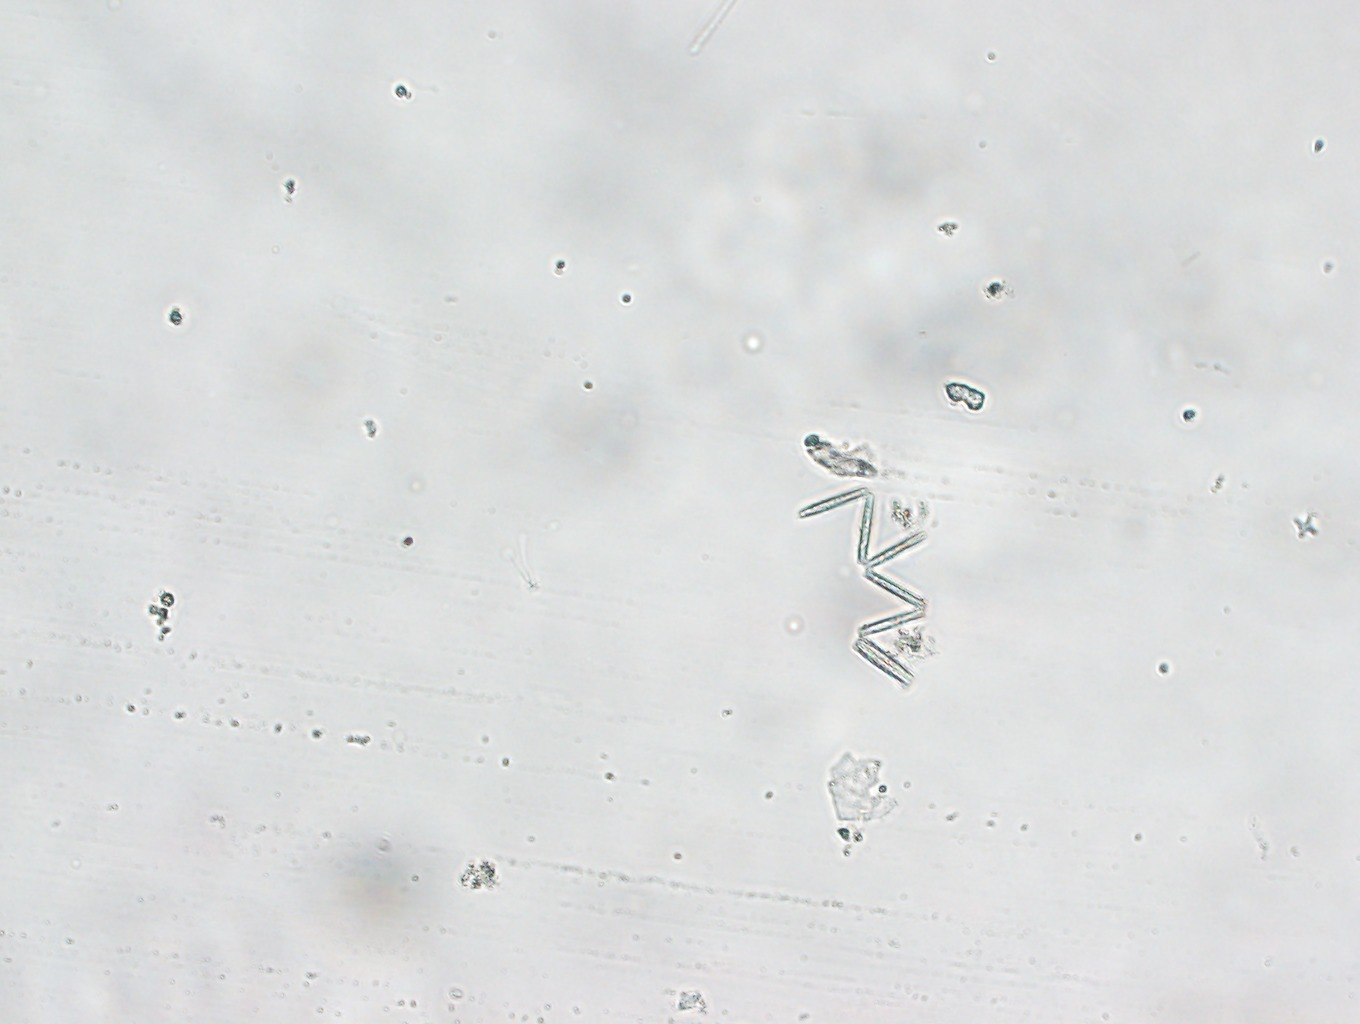thalassionema nitzschioides: (797, 478, 930, 691)
